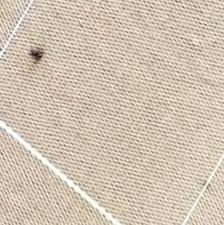stain: (26, 41, 47, 69)
